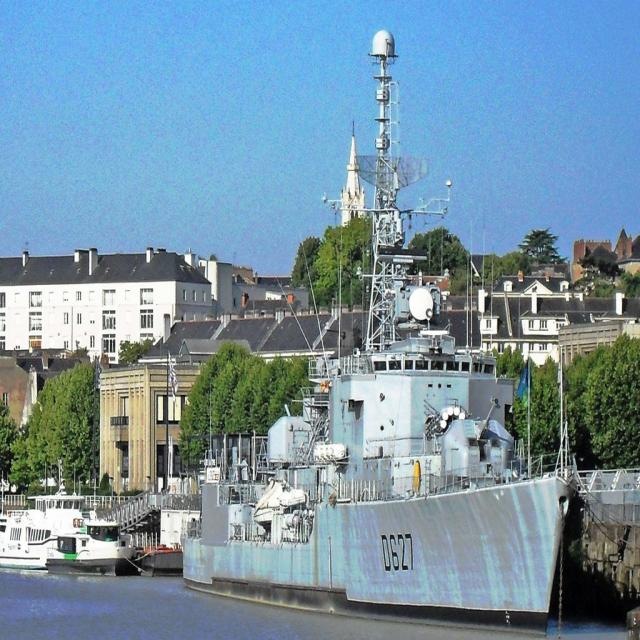Boat: (183, 28, 589, 634)
